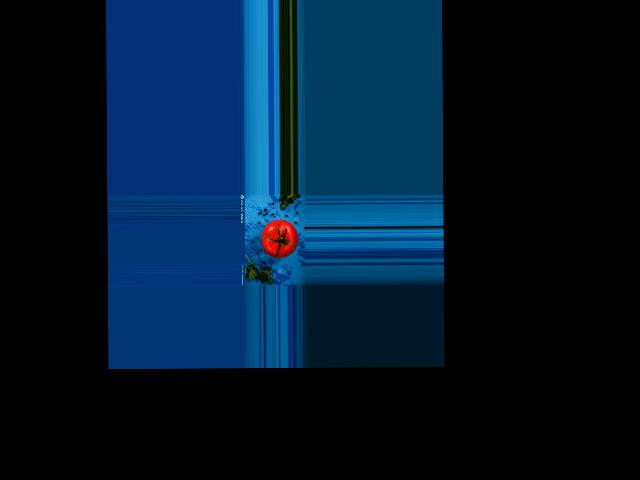tomato: (260, 219, 297, 258)
